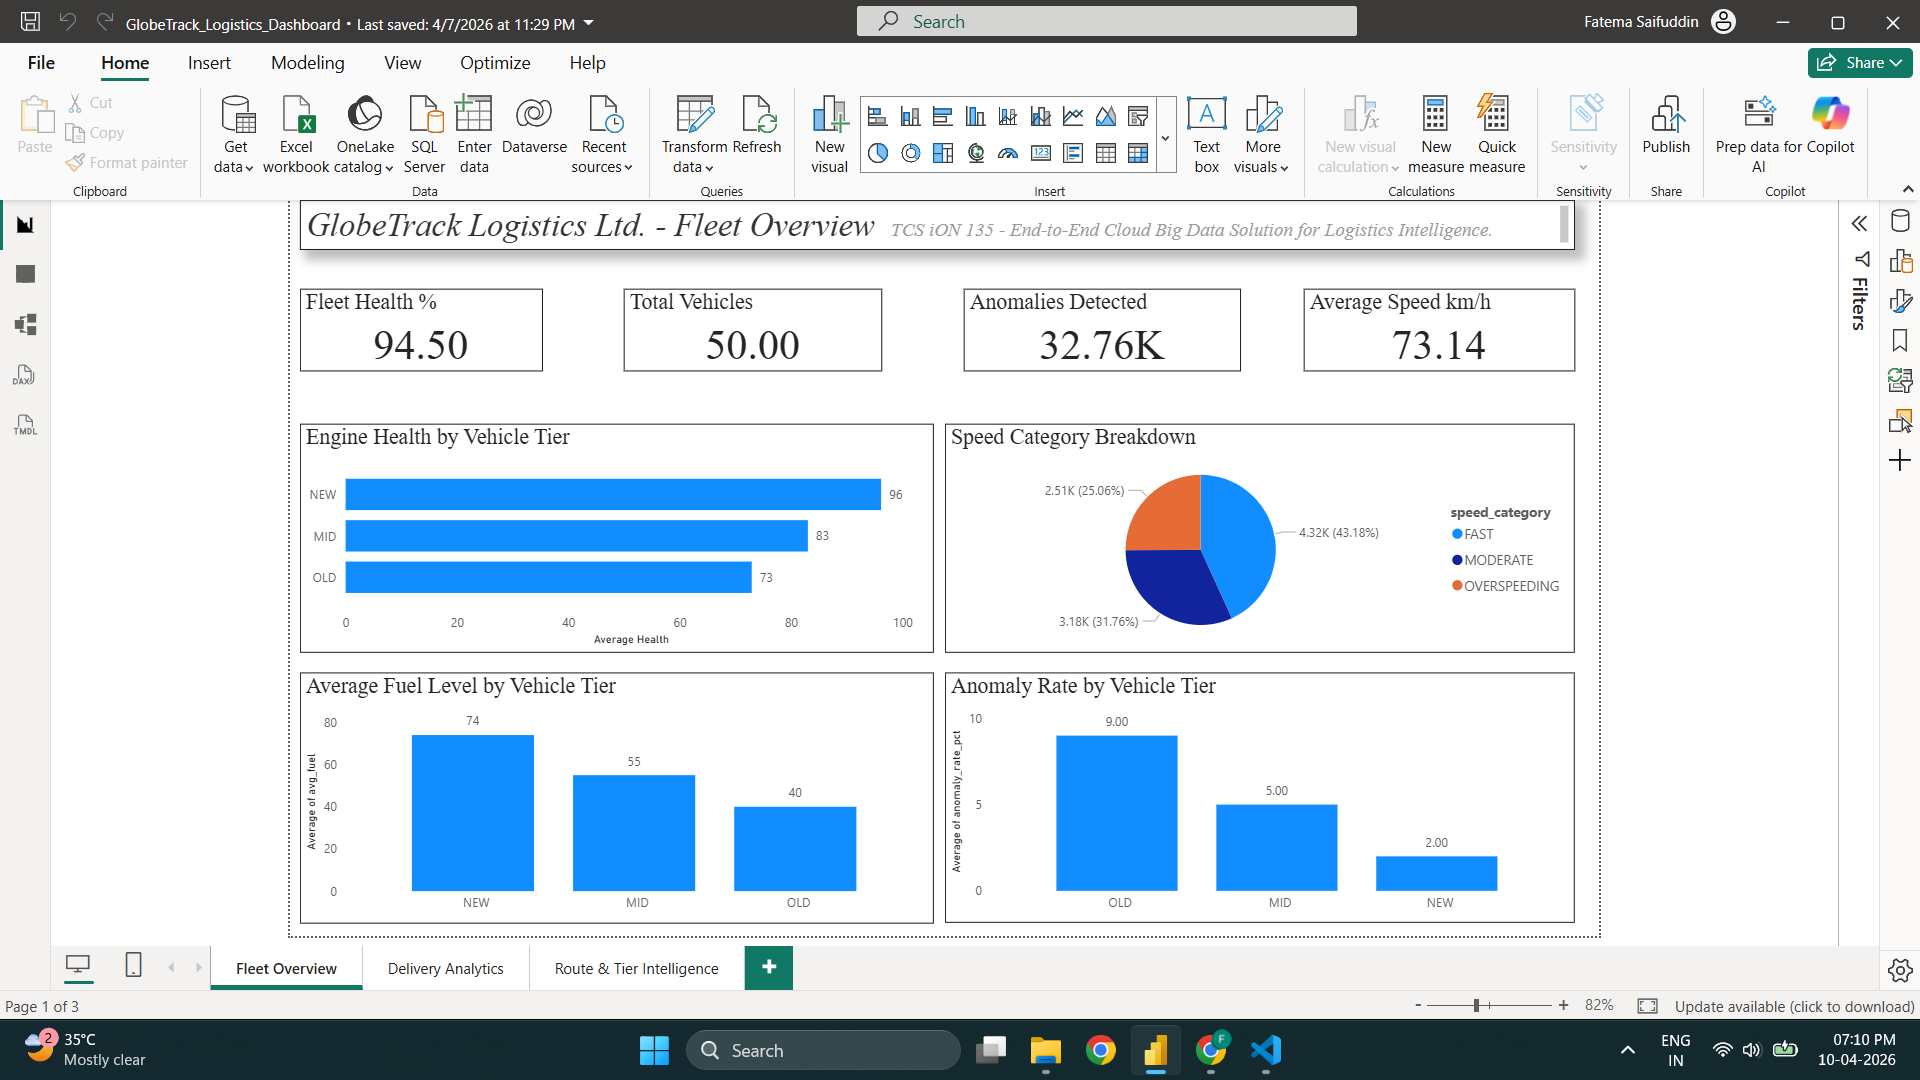

This screenshot's page, from the dashboard's own definition file:
{"tool":"powerbi","page":{"name":"Fleet Overview","canvas":[1280,720],"ordinal":0},"visuals":[{"type":"textbox","box":[9.8,0,1247.3,48.9],"z":0},{"type":"card","title":"Fleet Health %","fields":{"Values":["Avg(kpi_summary.Value)"]},"box":[9.8,86.8,237.2,80.7],"z":1000},{"type":"card","title":"Total Vehicles","fields":{"Values":["Avg(kpi_summary.Value)"]},"box":[326.5,86.8,253.1,80.7],"z":2000},{"type":"card","title":"Anomalies Detected","fields":{"Values":["Avg(kpi_summary.Value)"]},"box":[659.1,86.8,271.5,80.7],"z":3000},{"type":"card","title":"Average Speed km/h","fields":{"Values":["Avg(kpi_summary.Value)"]},"box":[991.7,86.8,265.4,80.7],"z":4000},{"type":"clusteredBarChart","title":"Engine Health by Vehicle Tier","fields":{"Category":["tier_performance.vehicle_tier"],"Y":["Avg(tier_performance.avg_health)"]},"box":[10.1,219.3,620.4,223.6],"z":5000},{"type":"clusteredColumnChart","title":"Average Fuel Level by Vehicle Tier","fields":{"Category":["tier_performance.vehicle_tier"],"Y":["Avg(tier_performance.avg_fuel)"]},"box":[10.1,461.7,620.4,245.3],"z":6000},{"type":"pieChart","title":"Speed Category Breakdown","fields":{"Category":["fleet_performance.speed_category"],"Y":["CountNonNull(fleet_performance.vehicle_id)"]},"box":[640.6,219.3,616.1,223.6],"z":7000},{"type":"clusteredColumnChart","title":"Anomaly Rate by Vehicle Tier","fields":{"Category":["tier_performance.vehicle_tier"],"Y":["Avg(tier_performance.anomaly_rate_pct)"]},"box":[641,462,616,245],"z":8000}]}

Visuals, with their boxes on the page's 1280x720 design canvas (x1, y1, x2, y2). These are canvas units, not pixel positions in the 1920x1080 screenshot, which may show the page scaled, cropped or inside an application window:
textbox: [left=10, top=0, right=1257, bottom=49]
"Fleet Health %" card: [left=10, top=87, right=247, bottom=168]
"Total Vehicles" card: [left=326, top=87, right=580, bottom=168]
"Anomalies Detected" card: [left=659, top=87, right=931, bottom=168]
"Average Speed km/h" card: [left=992, top=87, right=1257, bottom=168]
"Engine Health by Vehicle Tier" clusteredBarChart: [left=10, top=219, right=630, bottom=443]
"Average Fuel Level by Vehicle Tier" clusteredColumnChart: [left=10, top=462, right=630, bottom=707]
"Speed Category Breakdown" pieChart: [left=641, top=219, right=1257, bottom=443]
"Anomaly Rate by Vehicle Tier" clusteredColumnChart: [left=641, top=462, right=1257, bottom=707]
